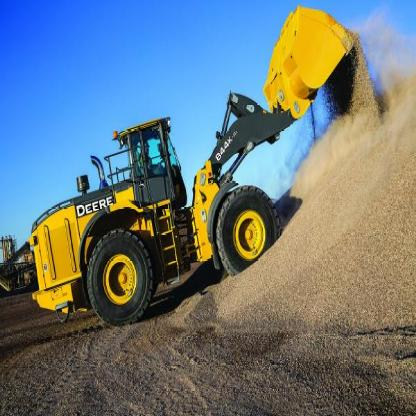bull_dozer/loader/grader: (19, 0, 374, 328)
